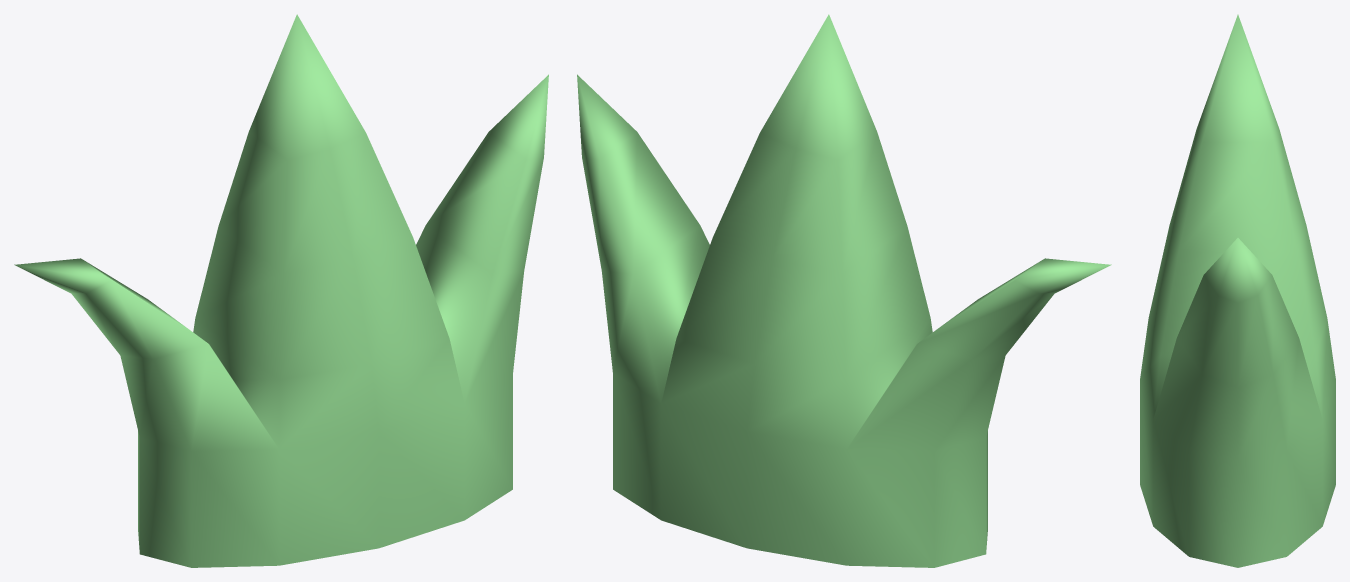
File: Grass.fbx
3 views of the same model, side by side, from view 1: azimuth 30°, elevation 25°; view 2: azimuth 150°, elevation 25°; view 3: azimuth 270°, elevation 25° (orthographic). The views are drawn at different scales.
Parts seen in each view (by area): view 1: Grass; view 2: Grass; view 3: Grass.
Boxes of the visible parts, x1,y1,x2,y2 form: Grass: (14, 14, 548, 567); Grass: (577, 14, 1111, 567); Grass: (1140, 14, 1335, 567).
Bounding box in the file's own units: 288 × 258 × 100.
